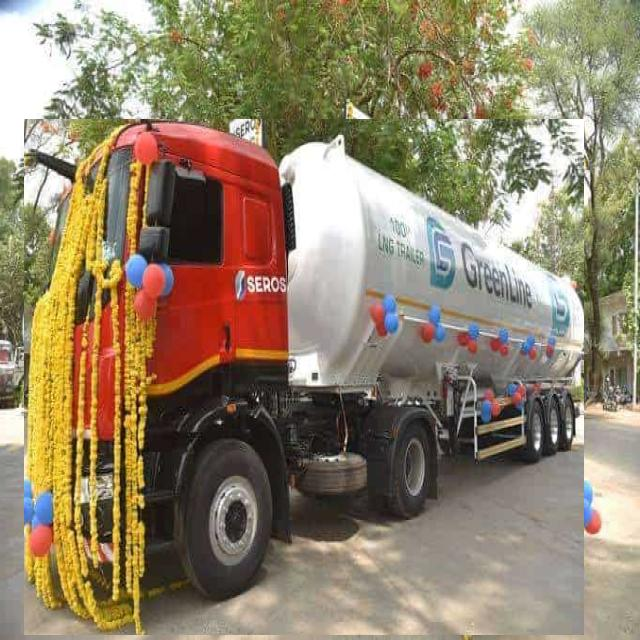truck: (24, 120, 584, 635)
